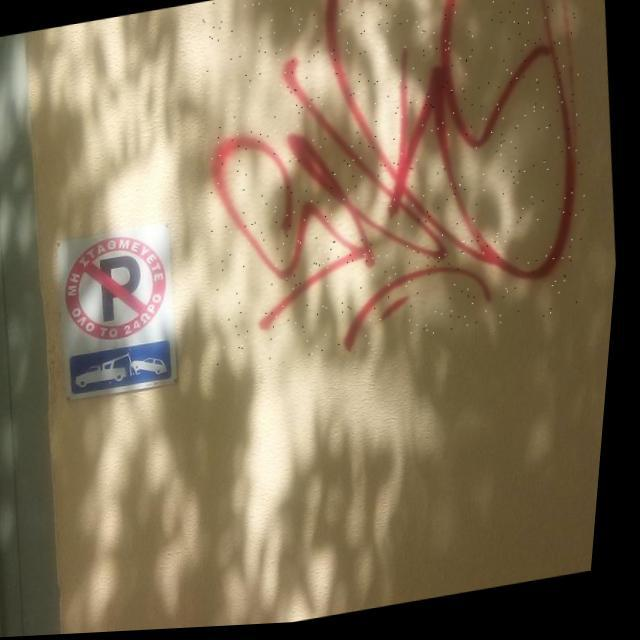-: (177, 0, 616, 377)
